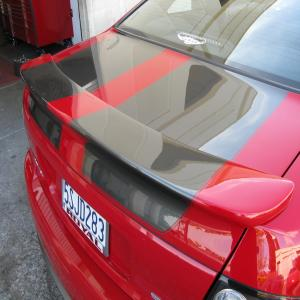Vehicle-registration-plate: (60, 182, 108, 251)
